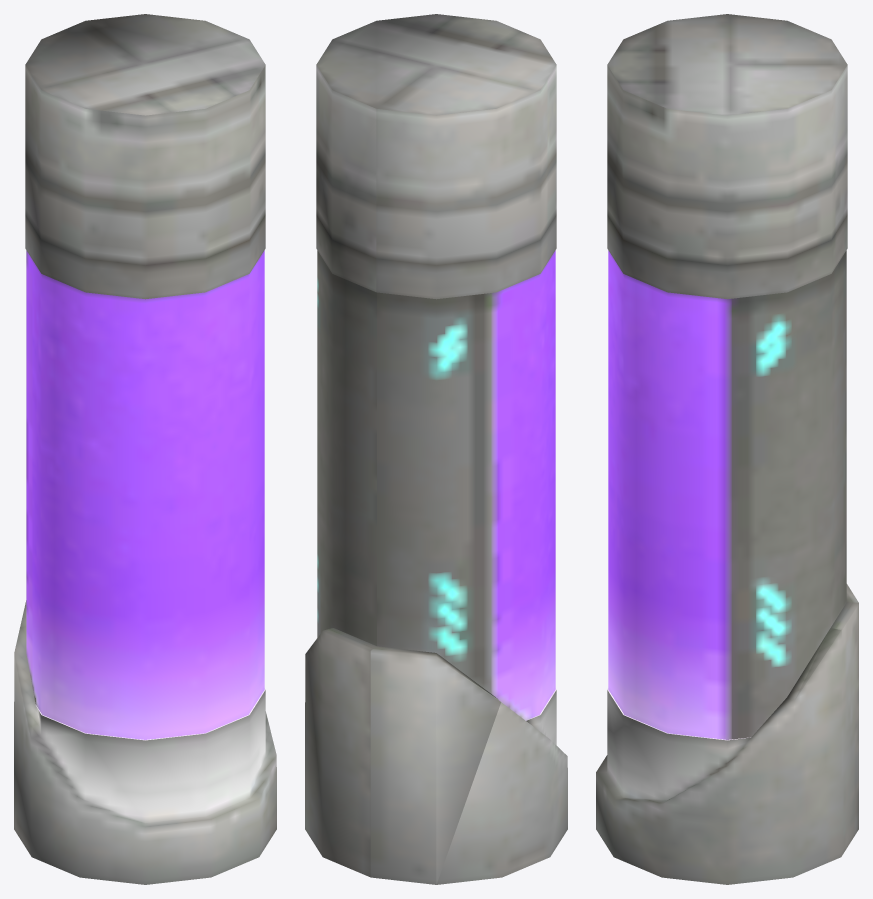
The model's file is Bottle_01.FBX.
3 renders of one model, left to right at view 1: azimuth 30°, elevation 25°; view 2: azimuth 150°, elevation 25°; view 3: azimuth 270°, elevation 25°, orthographic.
Visible parts, largest first — view 1: Bottle_01; view 2: Bottle_01; view 3: Bottle_01.
Boxes of the visible parts, x1,y1,x2,y2 form: Bottle_01: (14,14,276,884); Bottle_01: (305,14,567,884); Bottle_01: (596,14,858,884).
Size of the model in its own units: 0.0854 by 0.2742 by 0.0854.
